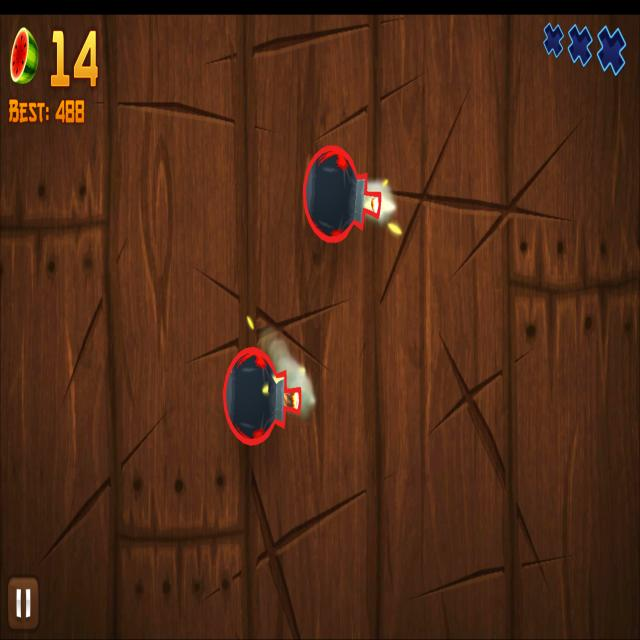bomb: (302, 146, 383, 243), (223, 346, 302, 445)
